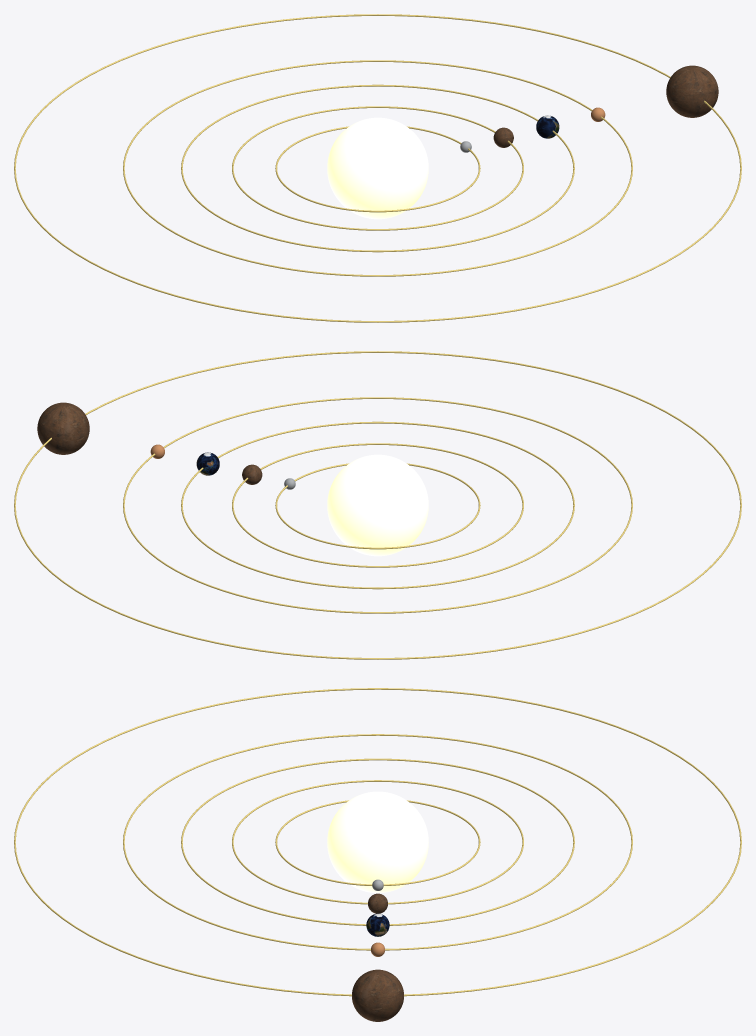
The model's file is solar-system.glb.
The picture shows the model from 3 angles, top to bottom: view 1: azimuth 30°, elevation 25°; view 2: azimuth 150°, elevation 25°; view 3: azimuth 270°, elevation 25°; orthographic projection.
Visible parts, largest first — view 1: SS_Sun, SS_Jupiter_Orbit, SS_Mars_Orbit, SS_Jupiter, SS_Earth_Orbit, SS_Venus_Orbit, SS_Mercury_Orbit; view 2: SS_Sun, SS_Jupiter_Orbit, SS_Mars_Orbit, SS_Jupiter, SS_Earth_Orbit, SS_Venus_Orbit, SS_Mercury_Orbit; view 3: SS_Sun, SS_Jupiter_Orbit, SS_Mars_Orbit, SS_Jupiter, SS_Earth_Orbit, SS_Venus_Orbit, SS_Mercury_Orbit.
Part boxes in pixels (<box>): SS_Sun: <box>327,117,428,219</box>; SS_Jupiter_Orbit: <box>14,14,741,322</box>; SS_Mars_Orbit: <box>123,60,632,276</box>; SS_Jupiter: <box>666,65,718,117</box>; SS_Earth_Orbit: <box>181,84,574,252</box>; SS_Venus_Orbit: <box>232,106,523,230</box>; SS_Mercury_Orbit: <box>275,126,480,212</box>; SS_Sun: <box>327,454,428,556</box>; SS_Jupiter_Orbit: <box>14,351,741,659</box>; SS_Mars_Orbit: <box>123,397,632,613</box>; SS_Jupiter: <box>37,402,89,454</box>; SS_Earth_Orbit: <box>181,421,574,589</box>; SS_Venus_Orbit: <box>232,443,523,567</box>; SS_Mercury_Orbit: <box>275,463,480,549</box>; SS_Sun: <box>327,791,428,893</box>; SS_Jupiter_Orbit: <box>14,688,741,996</box>; SS_Mars_Orbit: <box>123,734,632,950</box>; SS_Jupiter: <box>352,969,403,1021</box>; SS_Earth_Orbit: <box>181,758,574,925</box>; SS_Venus_Orbit: <box>232,780,523,904</box>; SS_Mercury_Orbit: <box>275,800,480,885</box>.
Size of the model in its own units: 5.19 by 0.7 by 5.01.
6 materials, 2 textured.
